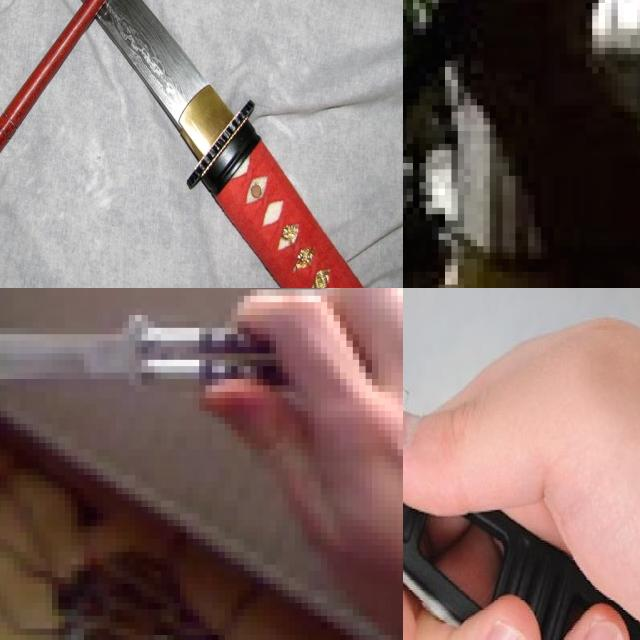Knife_Handle: (0, 288, 403, 581), (403, 288, 640, 640), (403, 0, 618, 240)
